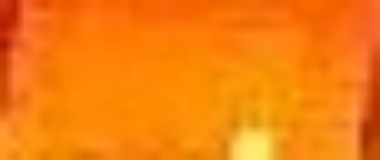Hotspot: (227, 124, 280, 160)
